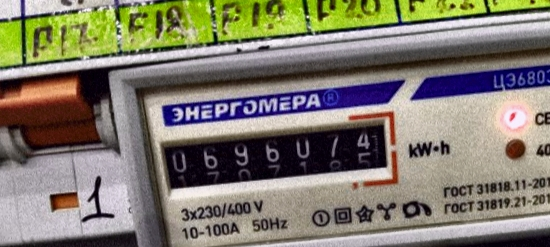0: (168, 147, 189, 174), (294, 132, 312, 160)
4: (354, 126, 373, 151)
5: (357, 150, 373, 169)
6: (200, 142, 222, 171), (262, 137, 281, 163)
7: (323, 131, 343, 158)
9: (230, 140, 251, 167)
screen: (148, 105, 406, 209)
